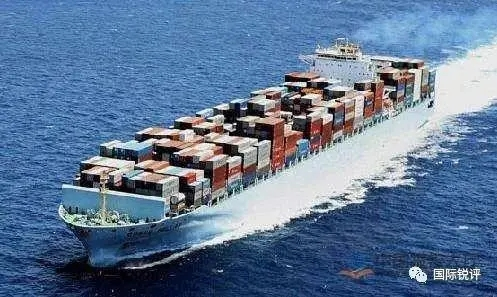Cargoship: (59, 35, 441, 261)
